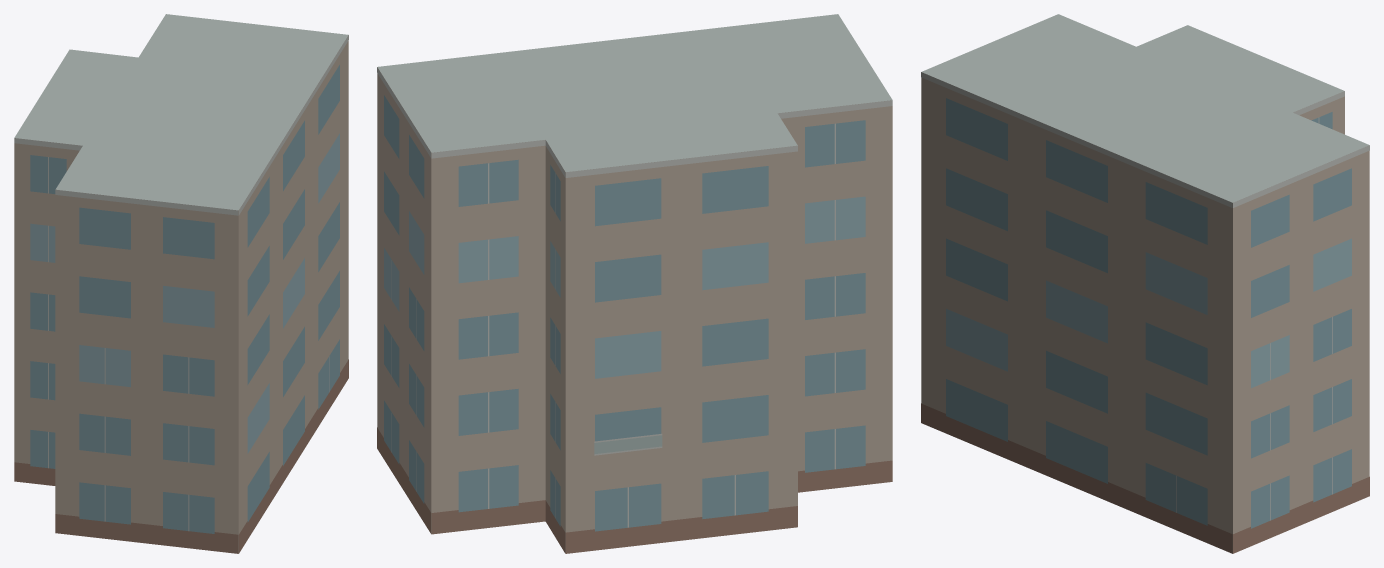
Rendered from survey-upis-32917165.glb.
The picture shows the model from 3 angles, left to right: view 1: azimuth 30°, elevation 25°; view 2: azimuth 150°, elevation 25°; view 3: azimuth 270°, elevation 25°; orthographic projection. The views are drawn at different scales.
Parts seen in each view (by area): view 1: survey-upis-32917165.tmp; view 2: survey-upis-32917165.tmp; view 3: survey-upis-32917165.tmp.
Boxes of the visible parts, x1,y1,x2,y2 form: survey-upis-32917165.tmp: [14, 14, 348, 553]; survey-upis-32917165.tmp: [377, 14, 892, 553]; survey-upis-32917165.tmp: [921, 14, 1369, 553].
Size of the model in its own units: 18.35 by 15.9 by 18.42.
